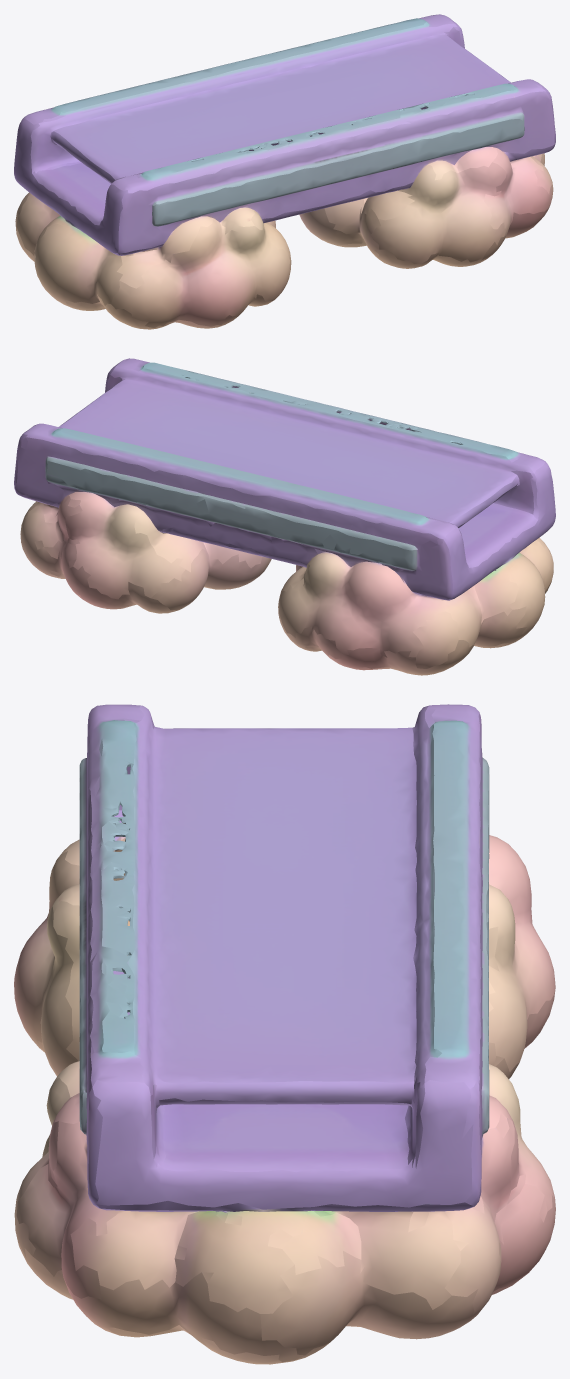
Rendered from cloud-bridge.glb.
3 views of the same model, one above another, from view 1: azimuth 30°, elevation 25°; view 2: azimuth 150°, elevation 25°; view 3: azimuth 270°, elevation 25° (orthographic). The views are drawn at different scales.
Visible parts, largest first — view 1: world; view 2: world; view 3: world.
Part boxes in pixels (<box>): world: <box>14,14,555,329</box>; world: <box>14,358,555,675</box>; world: <box>14,704,555,1364</box>.
Size of the model in its own units: 0.095 by 0.0293 by 0.0486.
1 material, 1 textured.
